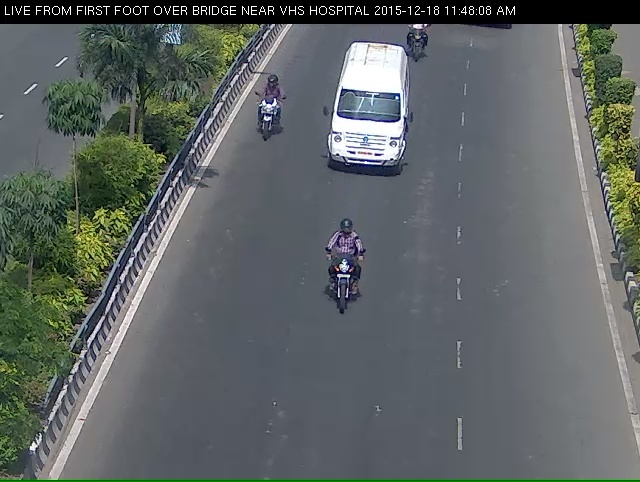Bus: (320, 51, 407, 194)
Person: (320, 241, 366, 353), (244, 90, 277, 165), (402, 24, 430, 70)
